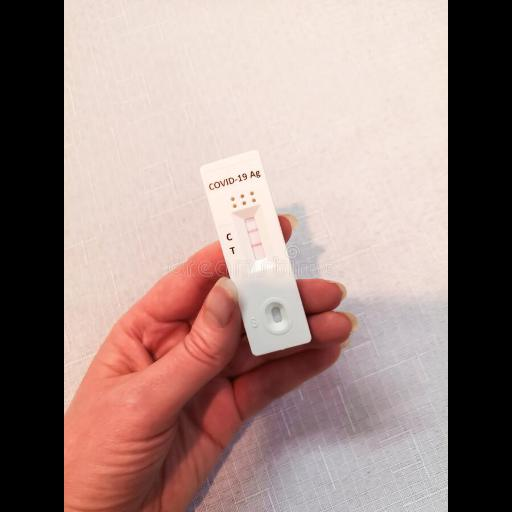Pos: (199, 149, 314, 356)
